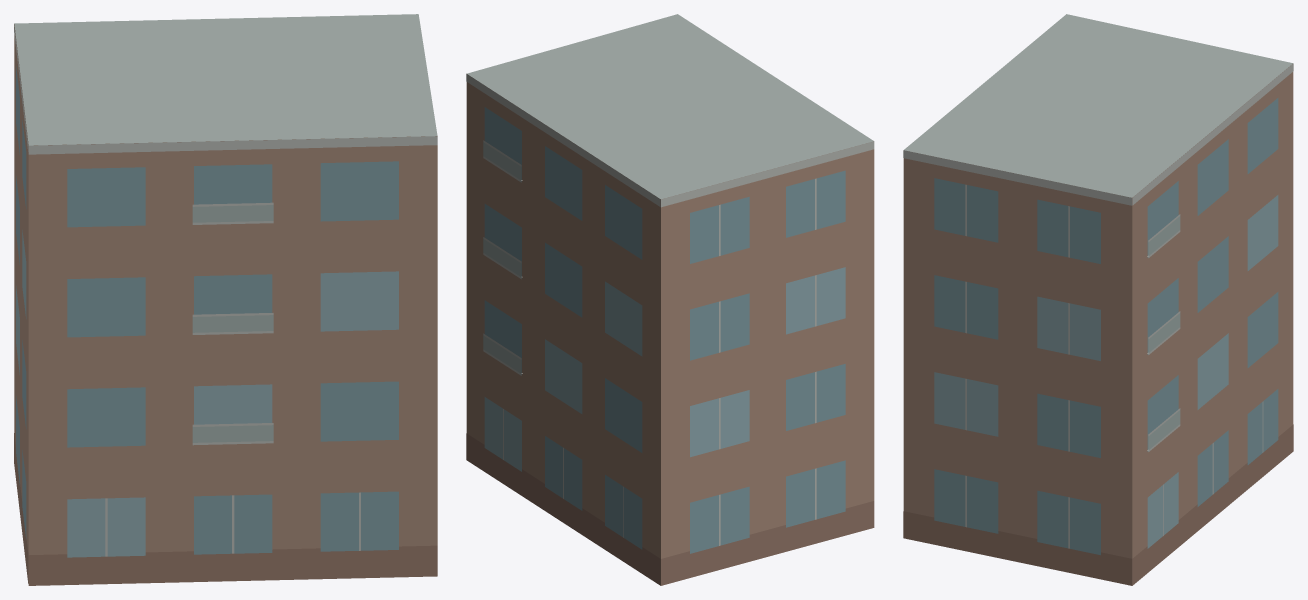
Rendered from survey-upis-32976694.glb.
3 renders of one model, left to right at view 1: azimuth 30°, elevation 25°; view 2: azimuth 150°, elevation 25°; view 3: azimuth 270°, elevation 25°, orthographic. The views are drawn at different scales.
Parts seen in each view (by area): view 1: survey-upis-32976694.tmp; view 2: survey-upis-32976694.tmp; view 3: survey-upis-32976694.tmp.
Boxes of the visible parts, box(x1,y1,x2,y2) form: survey-upis-32976694.tmp: box(14, 14, 437, 585); survey-upis-32976694.tmp: box(466, 14, 874, 585); survey-upis-32976694.tmp: box(903, 14, 1293, 585).
Size of the model in its own units: 11.99 by 11.8 by 10.76.
